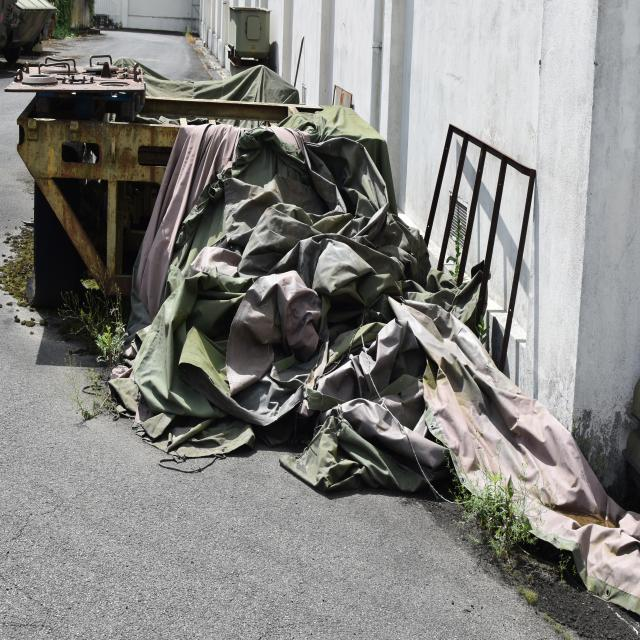entulho: (150, 135, 430, 482), (402, 300, 640, 593), (415, 119, 541, 378)
